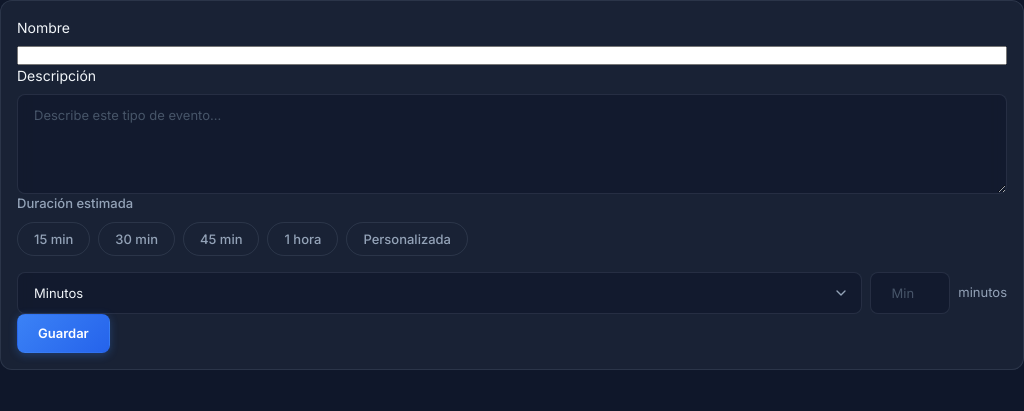
Test: US_003, US_004, US_006: Creación de Tipos de Eventos › 2. Guarda como Borrador si falta la duración o modalidad
// Solo se llena el nombre — falta duración
Type "Consulta Incompleta" into the field labelled "Nombre" at coordinates (512, 56), box x1=17 y1=46 x2=1007 y2=65
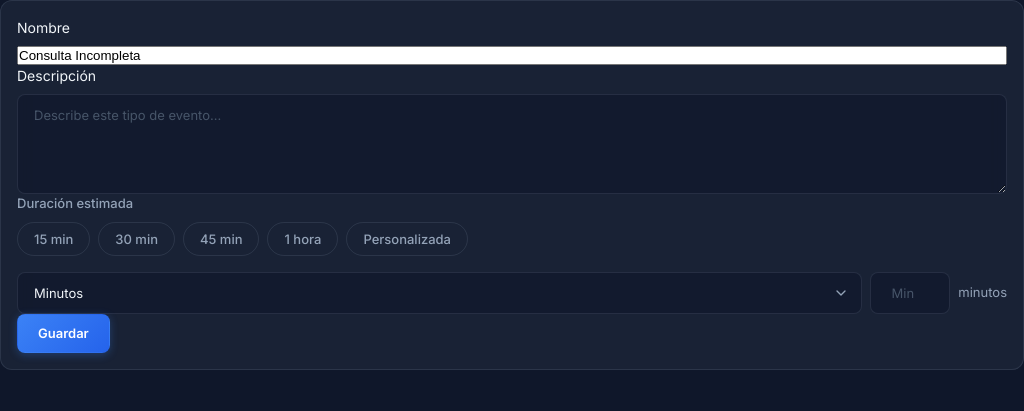
Click the button "Guardar" at coordinates (63, 333), box x1=17 y1=314 x2=110 y2=352
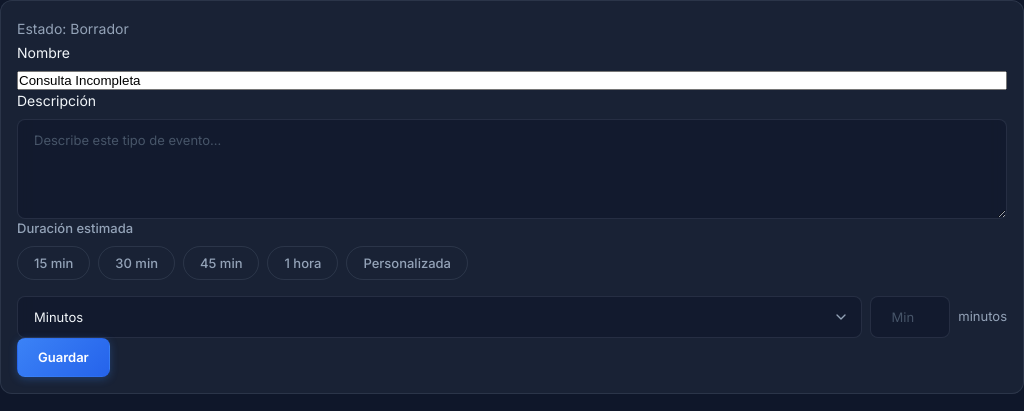
Now the text "Estado: Borrador" is shown, box x1=17 y1=20 x2=129 y2=37
